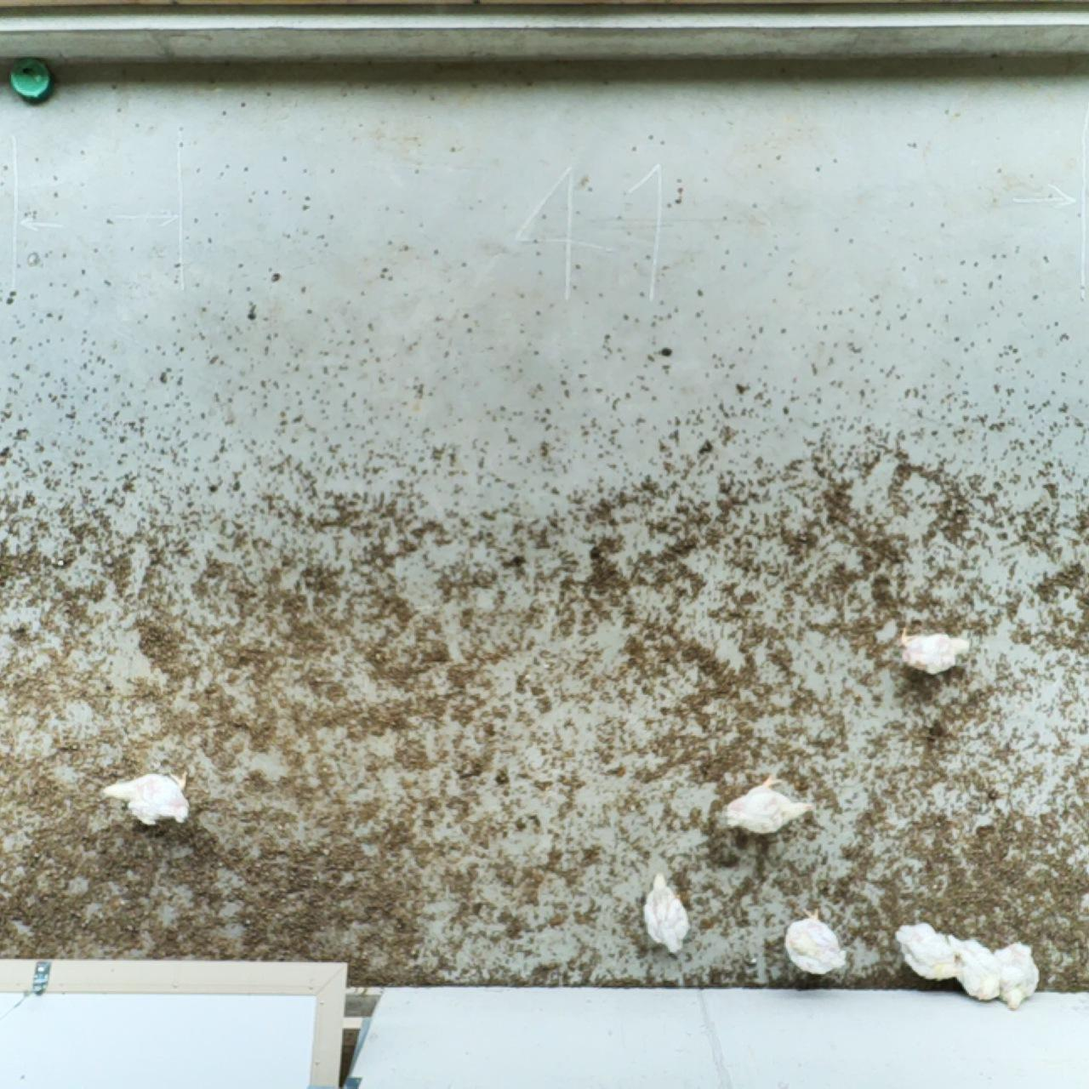chicken: (101, 764, 200, 834), (721, 772, 822, 839), (778, 903, 852, 979), (640, 868, 695, 959), (893, 620, 974, 679), (889, 918, 960, 985), (942, 931, 1003, 1005), (990, 938, 1043, 1014)
